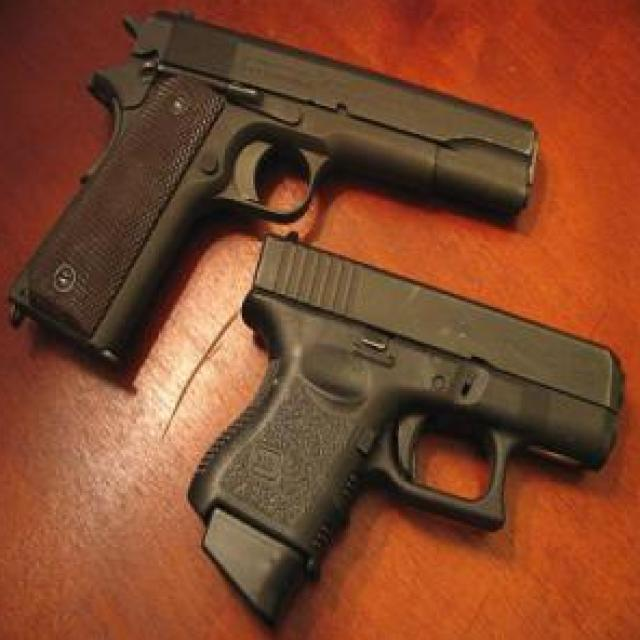pistol: (6, 6, 542, 372), (178, 229, 627, 624)
